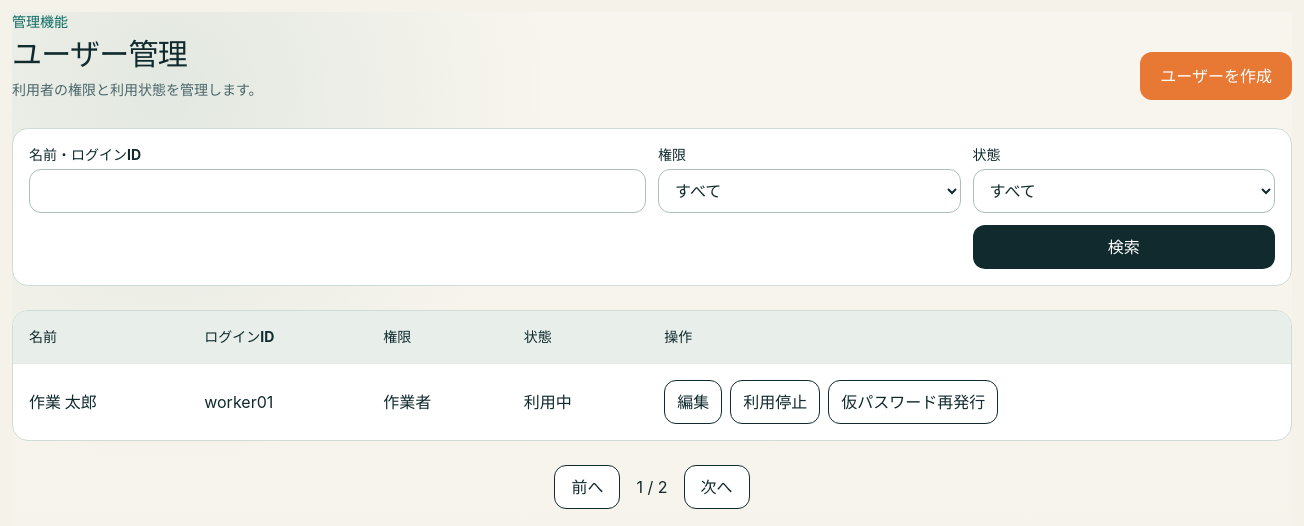
Test case: UsersView › 次のページへ移動し、ページ番号をAPIへ送る
Check: the text "1 / 2" is shown, box x1=636 y1=475 x2=668 y2=499
Step 1. Click the button "次へ" → click(716, 487), box x1=684 y1=465 x2=750 y2=509
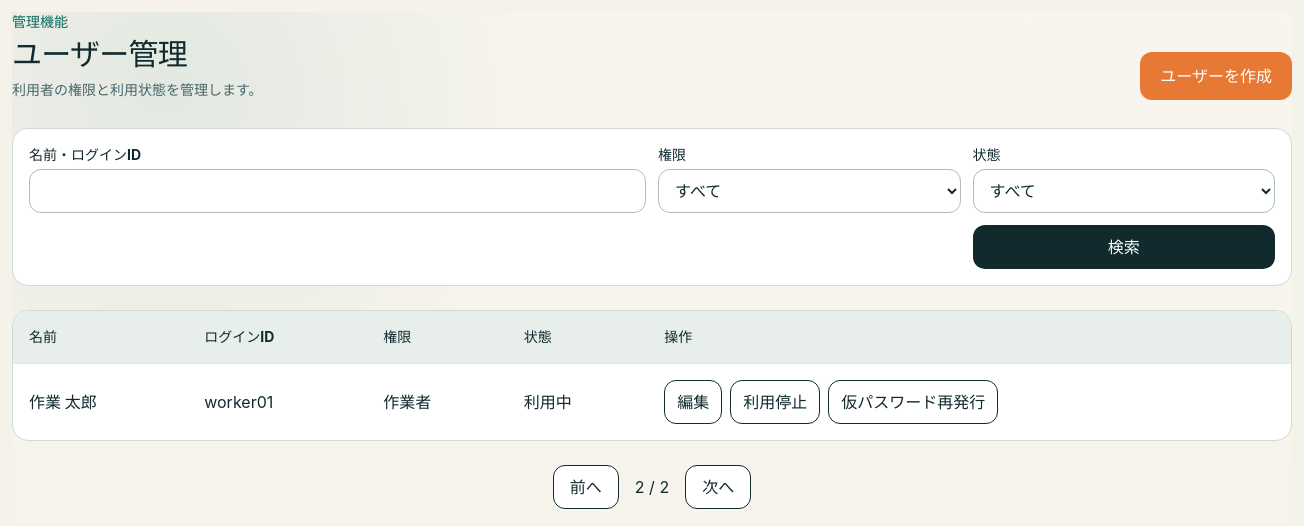
Check: the text "2 / 2" is shown, box x1=635 y1=475 x2=669 y2=499
Check: the button "次へ" is disabled, box x1=685 y1=465 x2=751 y2=509
